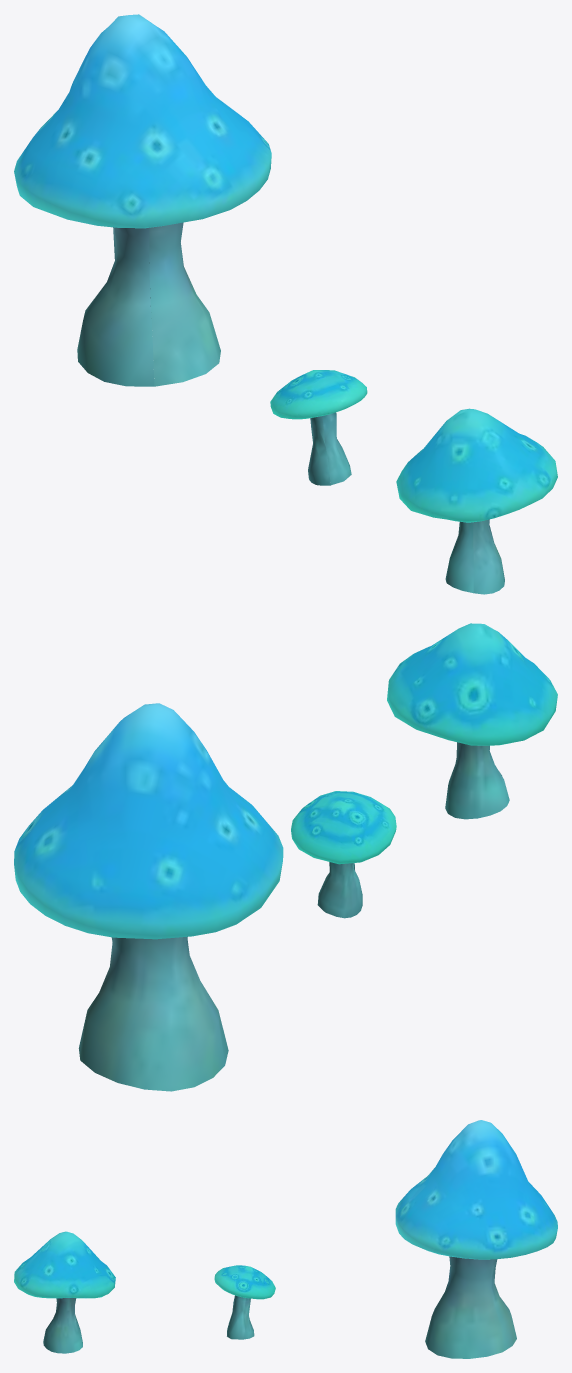
Rendered from shroom-cluster.glb.
3 views of the same model, one above another, from view 1: azimuth 30°, elevation 25°; view 2: azimuth 150°, elevation 25°; view 3: azimuth 270°, elevation 25° (orthographic). The views are drawn at different scales.
Parts seen in each view (by area): view 1: shroom-cluster; view 2: shroom-cluster; view 3: shroom-cluster.
Part boxes in pixels (<box>): shroom-cluster: <box>14,14,557,594</box>; shroom-cluster: <box>14,623,557,1091</box>; shroom-cluster: <box>14,1120,557,1358</box>.
Bounding box in the file's own units: 2.67 × 4 × 8.94.
2 materials, 2 textured.
